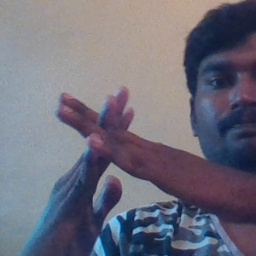W: (49, 78, 160, 224)
